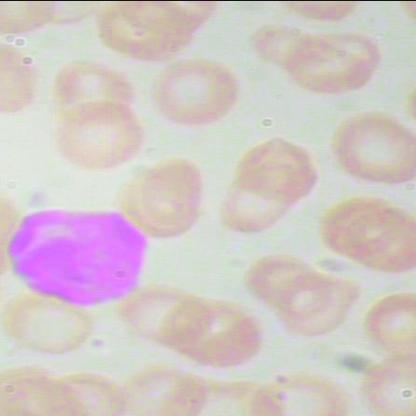RBC: (160, 295, 264, 369), (323, 106, 415, 189), (150, 52, 242, 134), (121, 282, 216, 356), (2, 291, 99, 362), (52, 100, 149, 170), (217, 158, 304, 235), (92, 0, 196, 64), (276, 270, 366, 339), (293, 27, 383, 96), (233, 136, 324, 204), (338, 203, 415, 276), (53, 58, 137, 122), (247, 367, 358, 415), (110, 362, 208, 416), (141, 154, 208, 224), (360, 290, 415, 362), (360, 351, 416, 415)
WBC: (3, 198, 148, 308)
